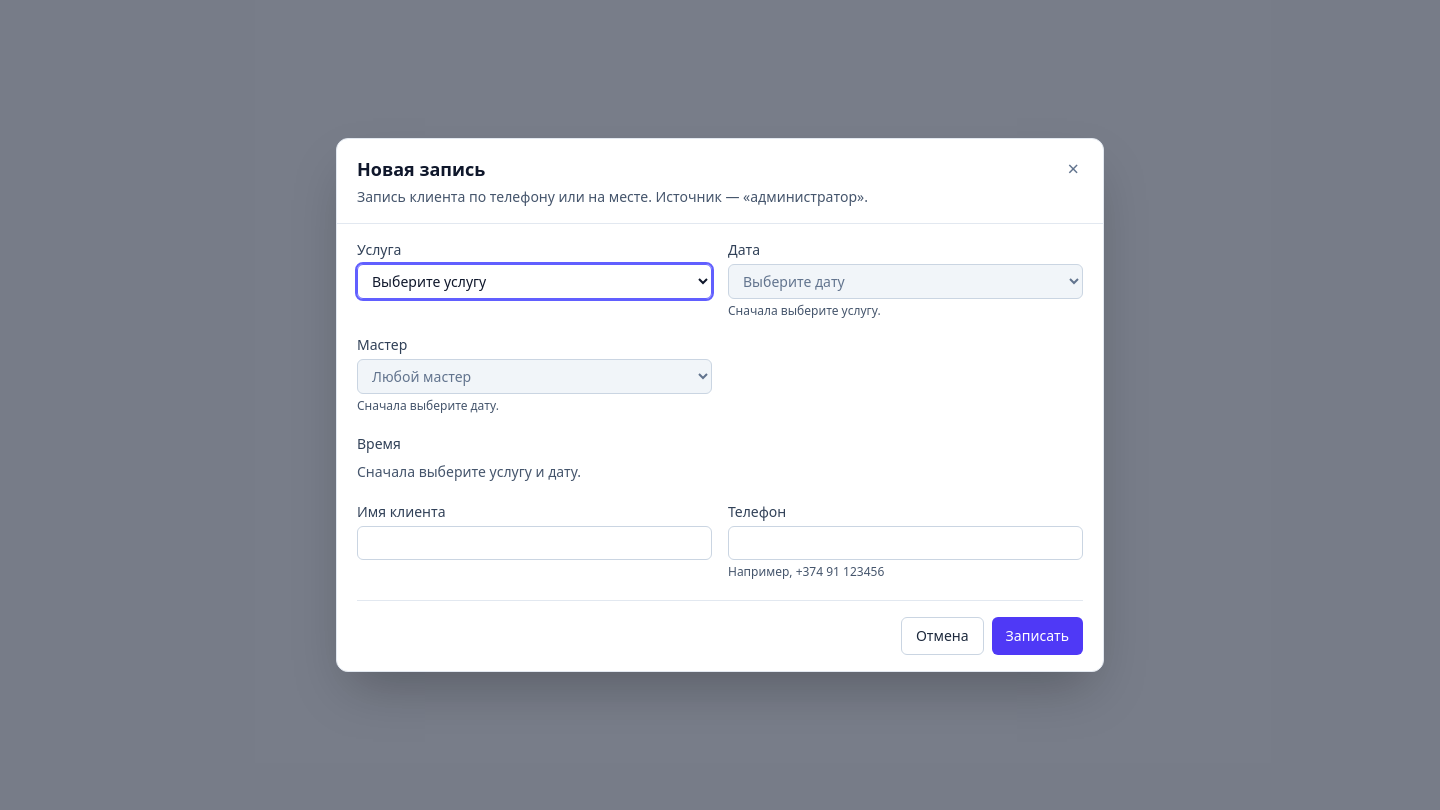
it: NewBookingDialog › мастер не работает в этот день — ошибка сервера у поля «Дата»
Select "Мужская стрижка · 30 мин · 4 000 ֏" in the dropdown labelled "Услуга" at (534, 282), box top-left (357, 264), bottom-right (712, 299)
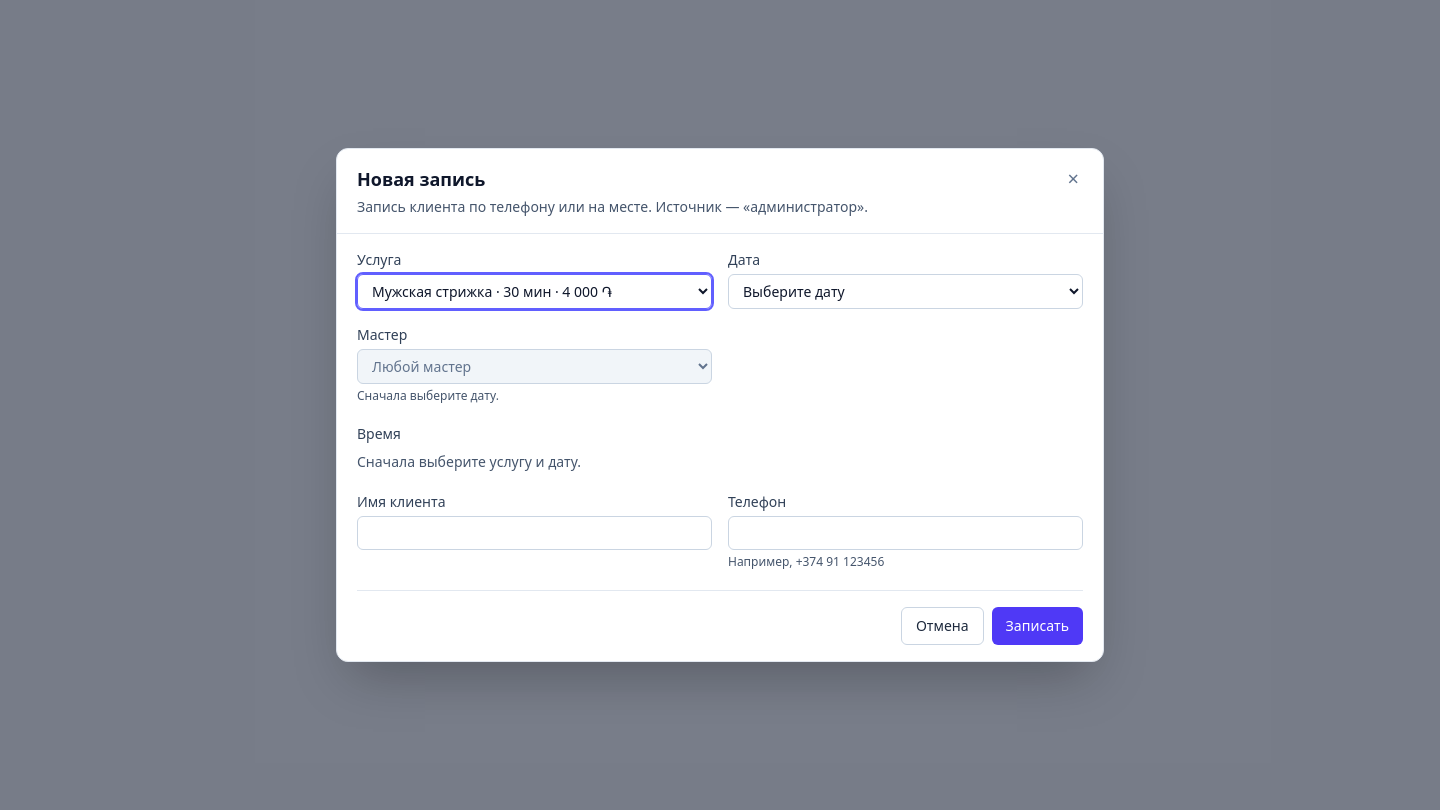
Expected: the dropdown labelled "Дата" is enabled
Select "Завтра, чт, 29 октября" in the dropdown labelled "Дата" at (906, 292), box top-left (728, 274), bottom-right (1083, 309)
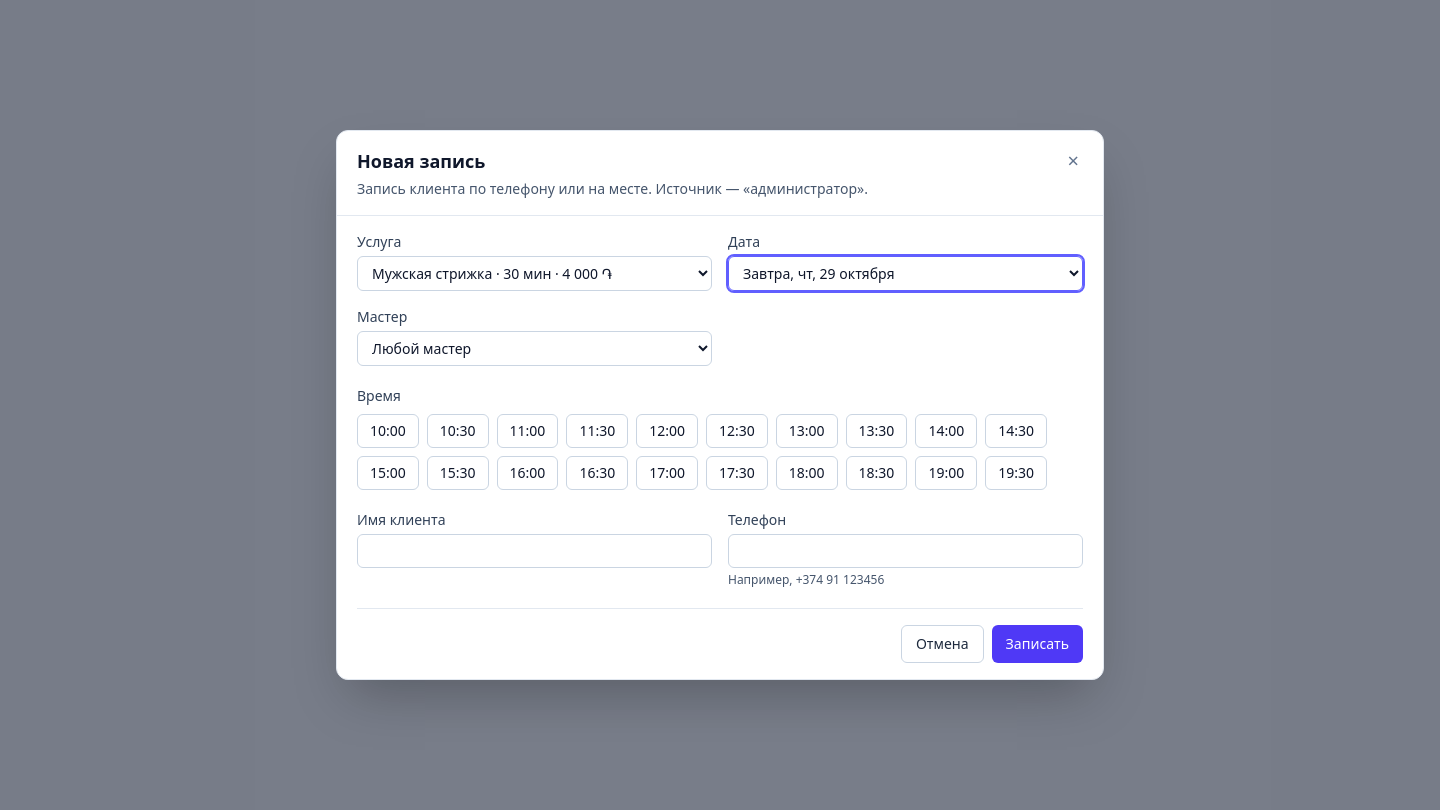
Select "Карен (11:00–20:00)" in the dropdown labelled "Мастер" at (534, 348), box top-left (357, 331), bottom-right (712, 366)
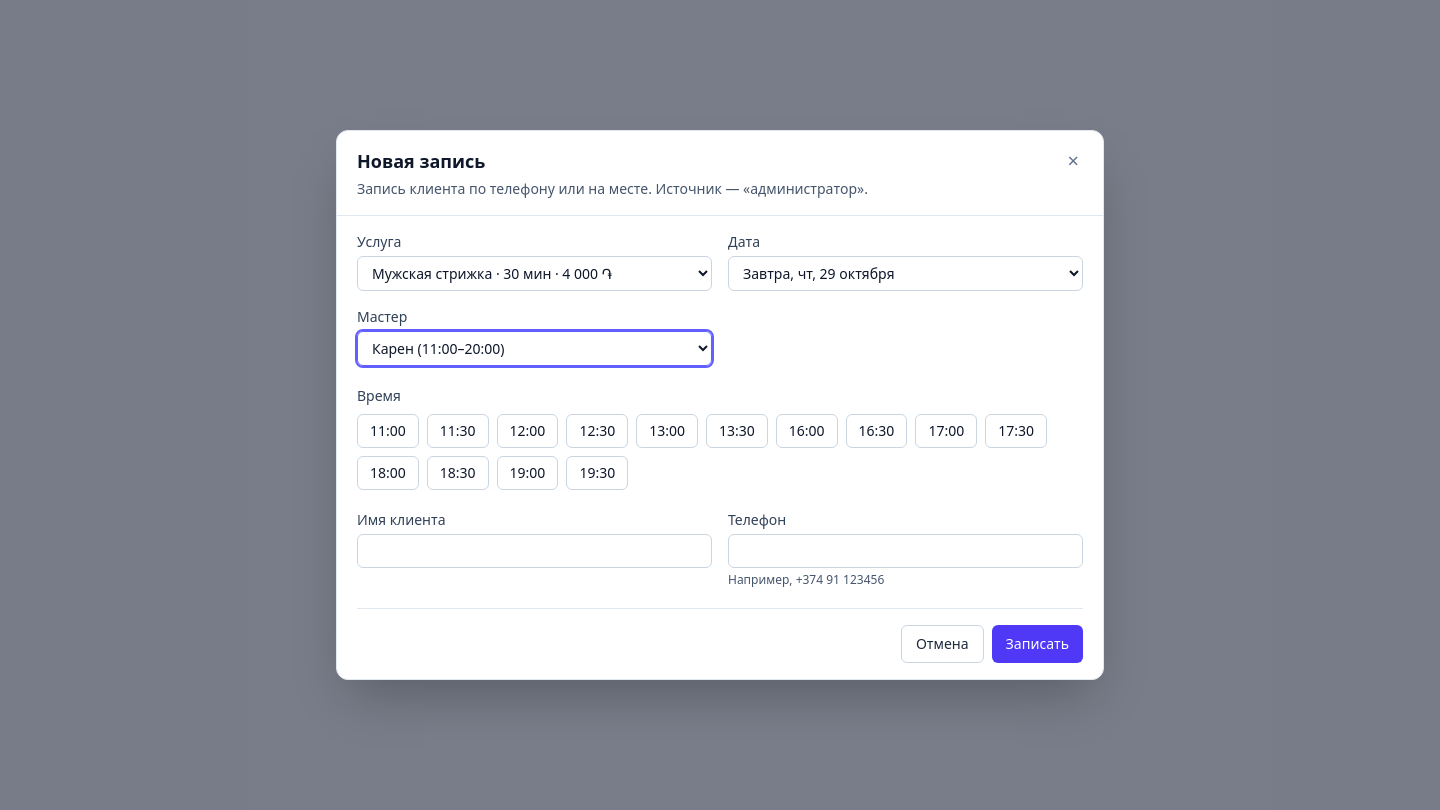
Click the radio button labelled "12:00".
click(528, 431)  # box top-left (497, 414), bottom-right (558, 448)
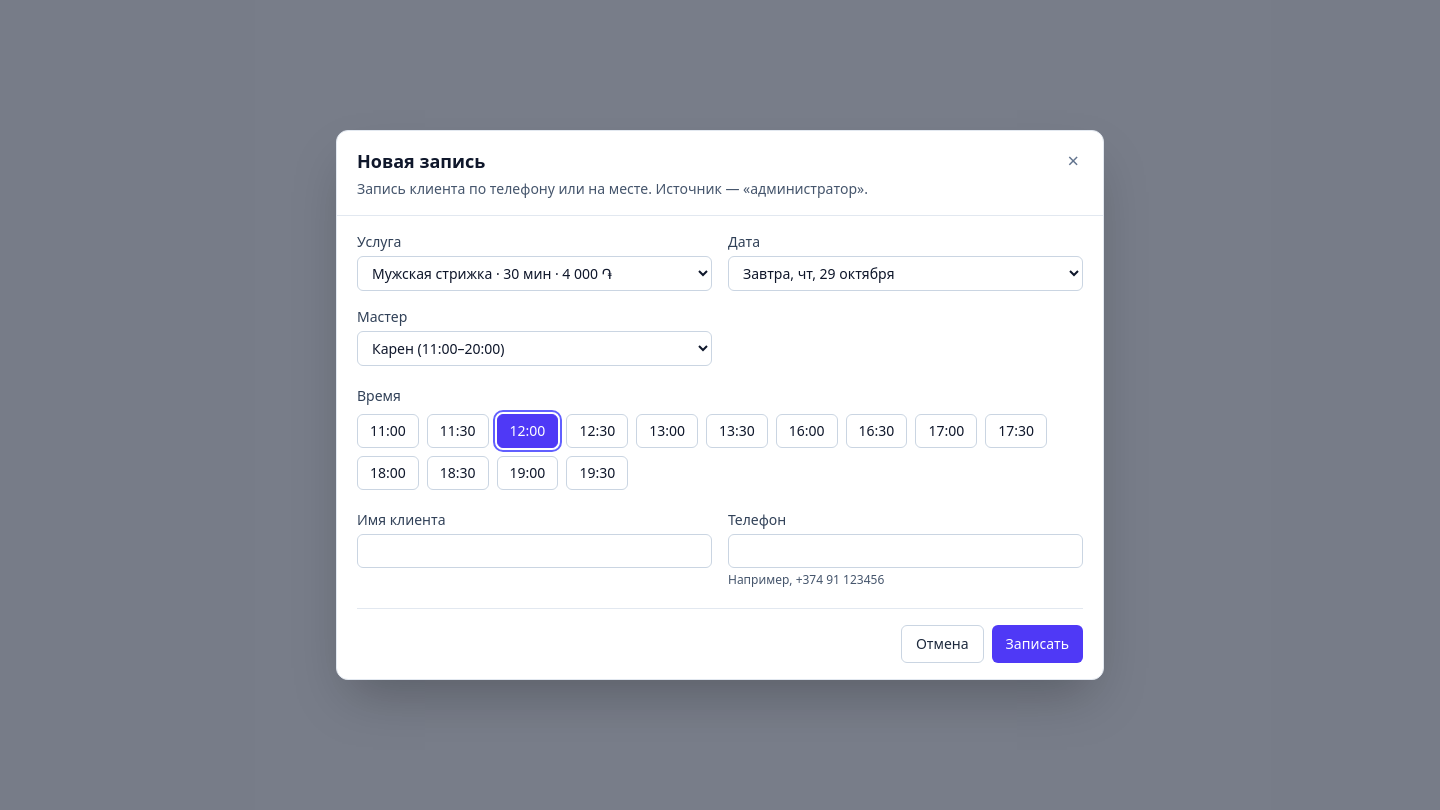
Type "Гаяне" into the field labelled "Имя клиента".
click(534, 551); type("Гаяне")  # box top-left (357, 534), bottom-right (712, 568)
Type "+37491000000" into the field labelled "Телефон".
click(906, 551); type("+37491000000")  # box top-left (728, 534), bottom-right (1083, 568)
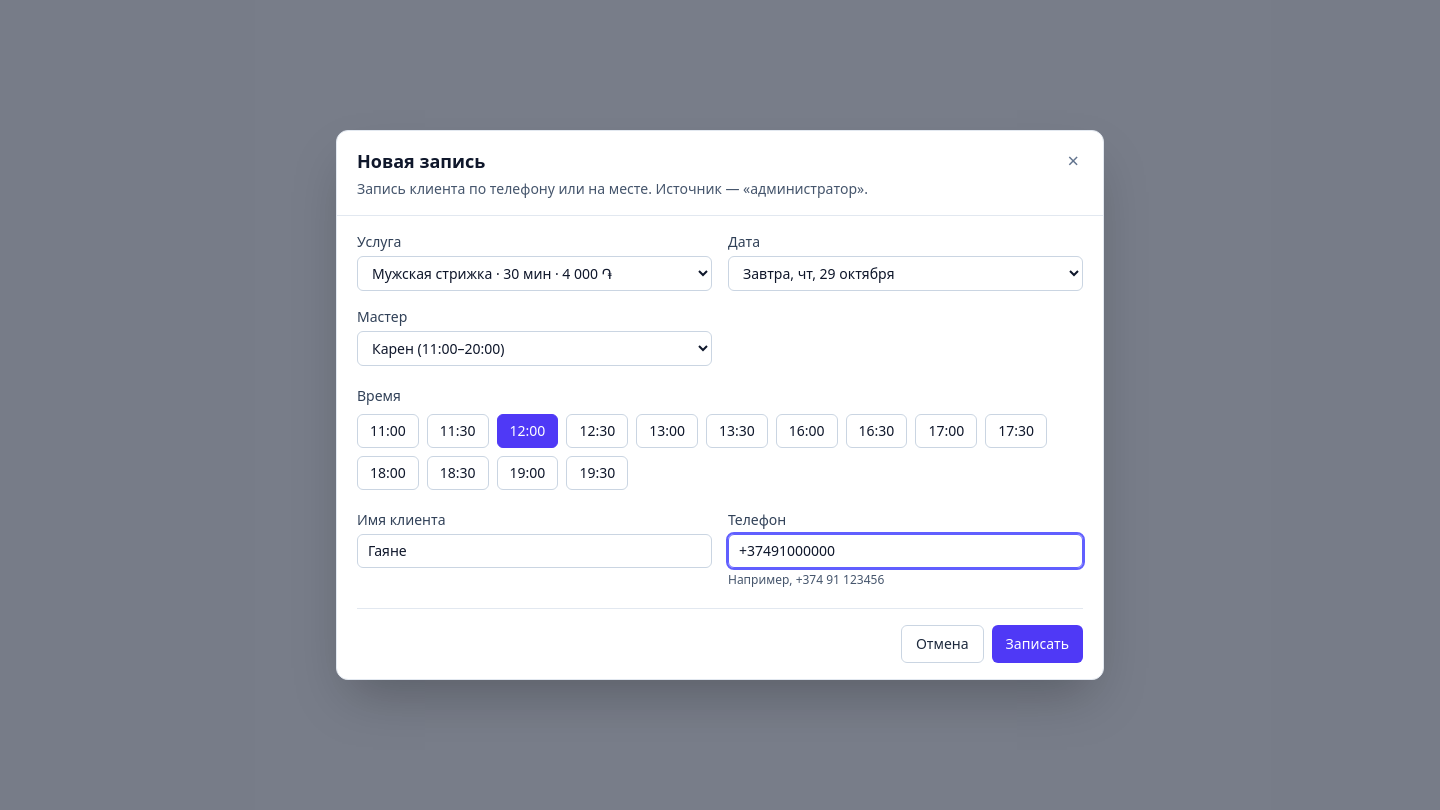
Click the button "Записать".
click(1037, 644)  # box top-left (992, 625), bottom-right (1083, 663)
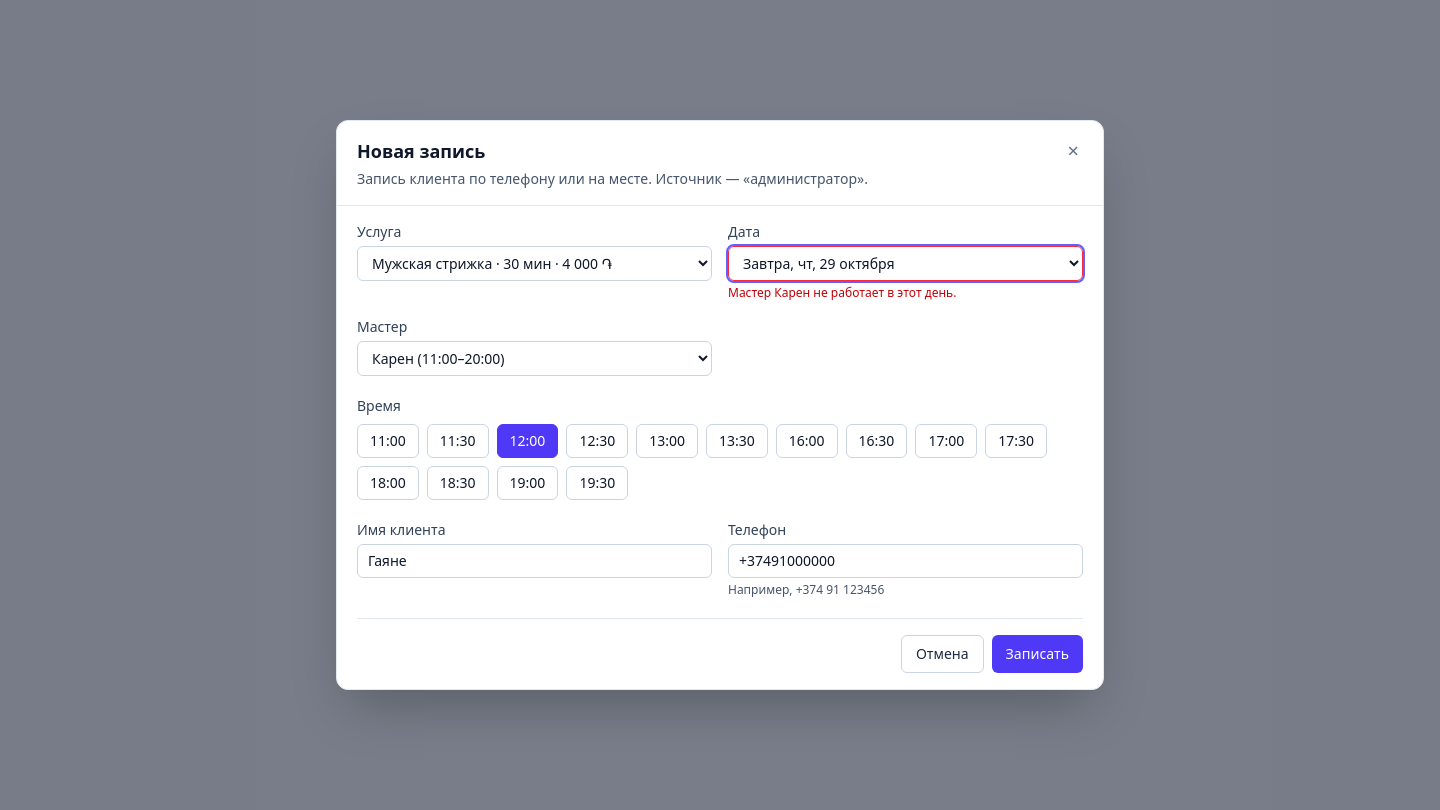
Expected: the text "Мастер Карен не работает в этот день." is shown, top-left (728, 284), bottom-right (956, 301)
